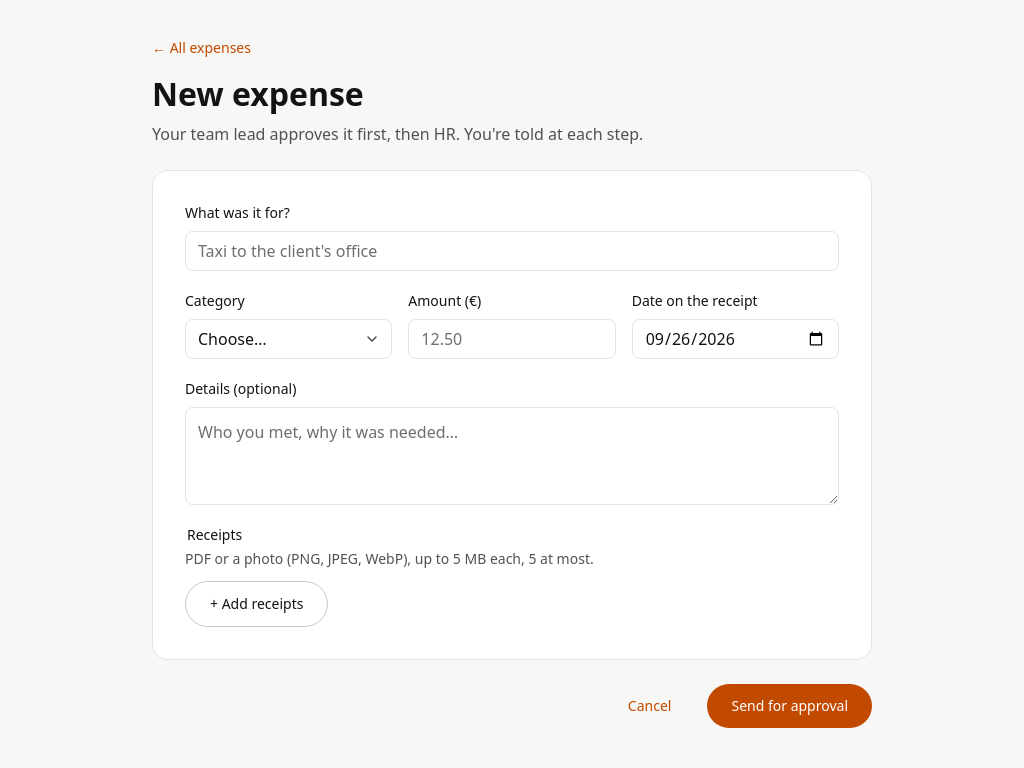
Test: submitting an expense › checks the form before sending
(page scrolled)
Click the button "Send for approval" at (790, 706), box [708,684,872,728]
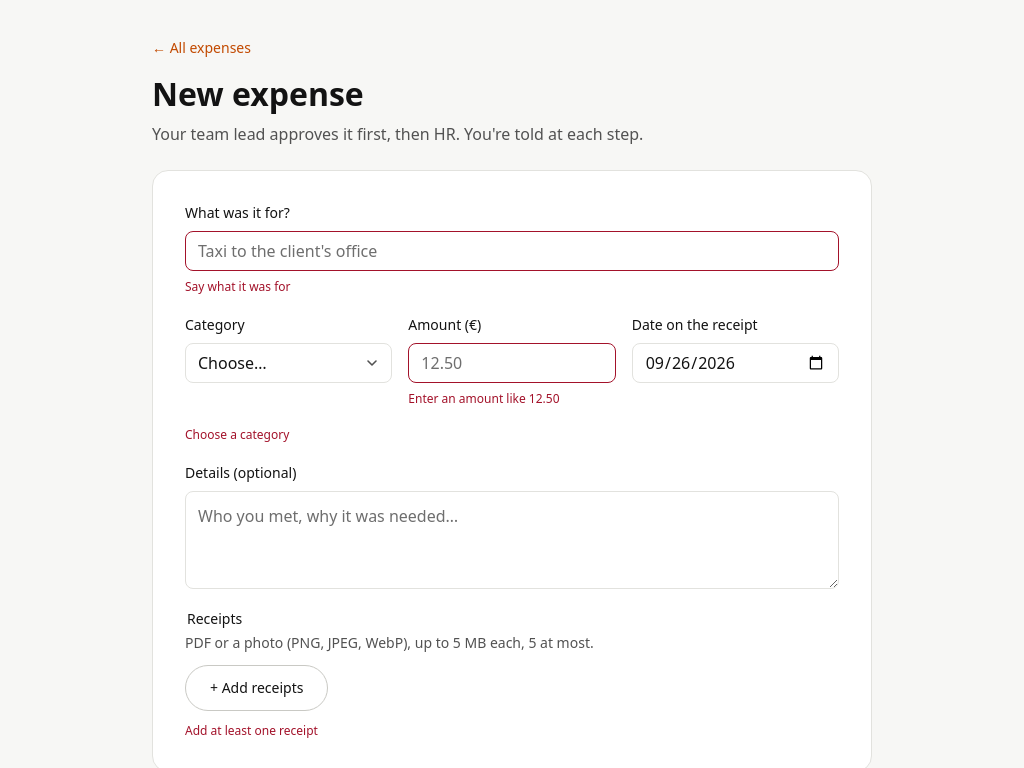
Now the text "Choose a category" is shown, box [185,426,289,443]
Now the text "Add at least one receipt" is shown, box [185,722,318,739]
